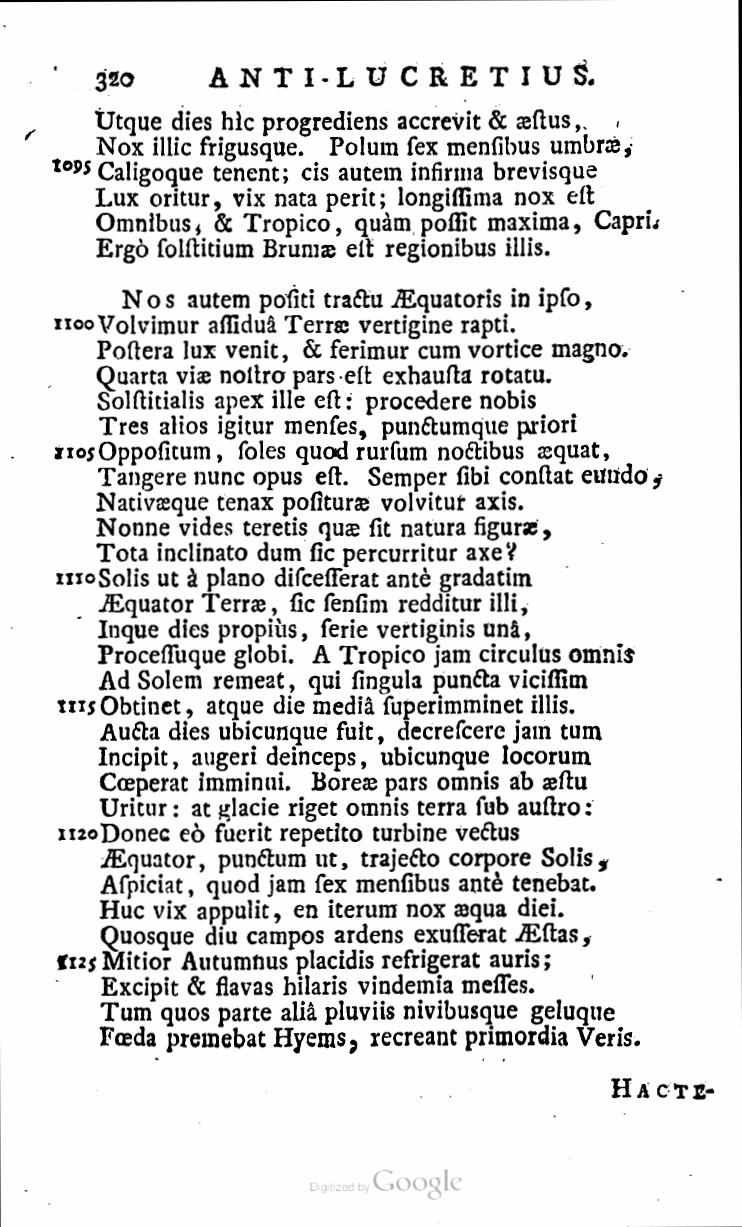bottom_p: (95, 105, 665, 263)
catchword: (607, 1072, 718, 1105)
header: (205, 58, 602, 95)
page_num: (90, 63, 138, 93)
print_marg: (55, 690, 97, 722), (48, 312, 97, 335), (48, 153, 93, 177), (48, 440, 97, 462), (52, 565, 97, 588), (55, 950, 98, 973), (57, 822, 98, 842)
top_p: (97, 285, 665, 1052)
